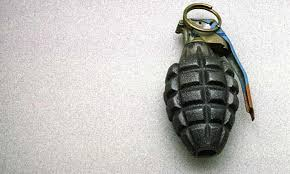bomb: (165, 4, 255, 159)
